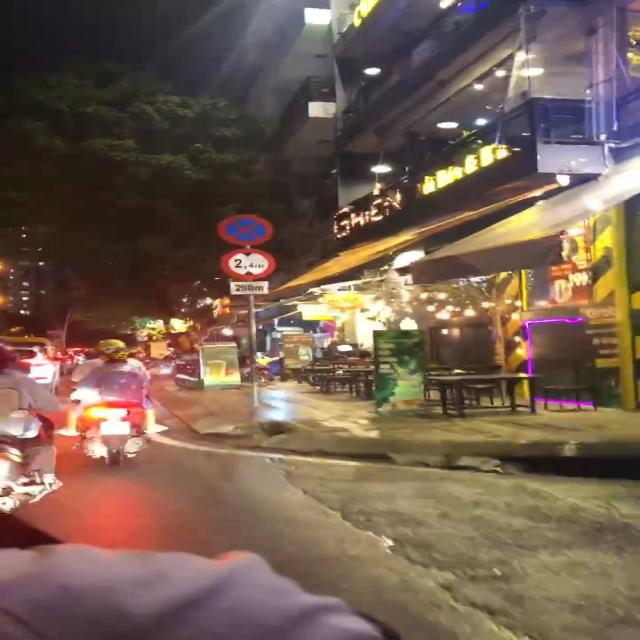Bien bao cam dung xe va do xe: (209, 211, 274, 247)
Bien bao han che chieu cao: (216, 246, 282, 281)
